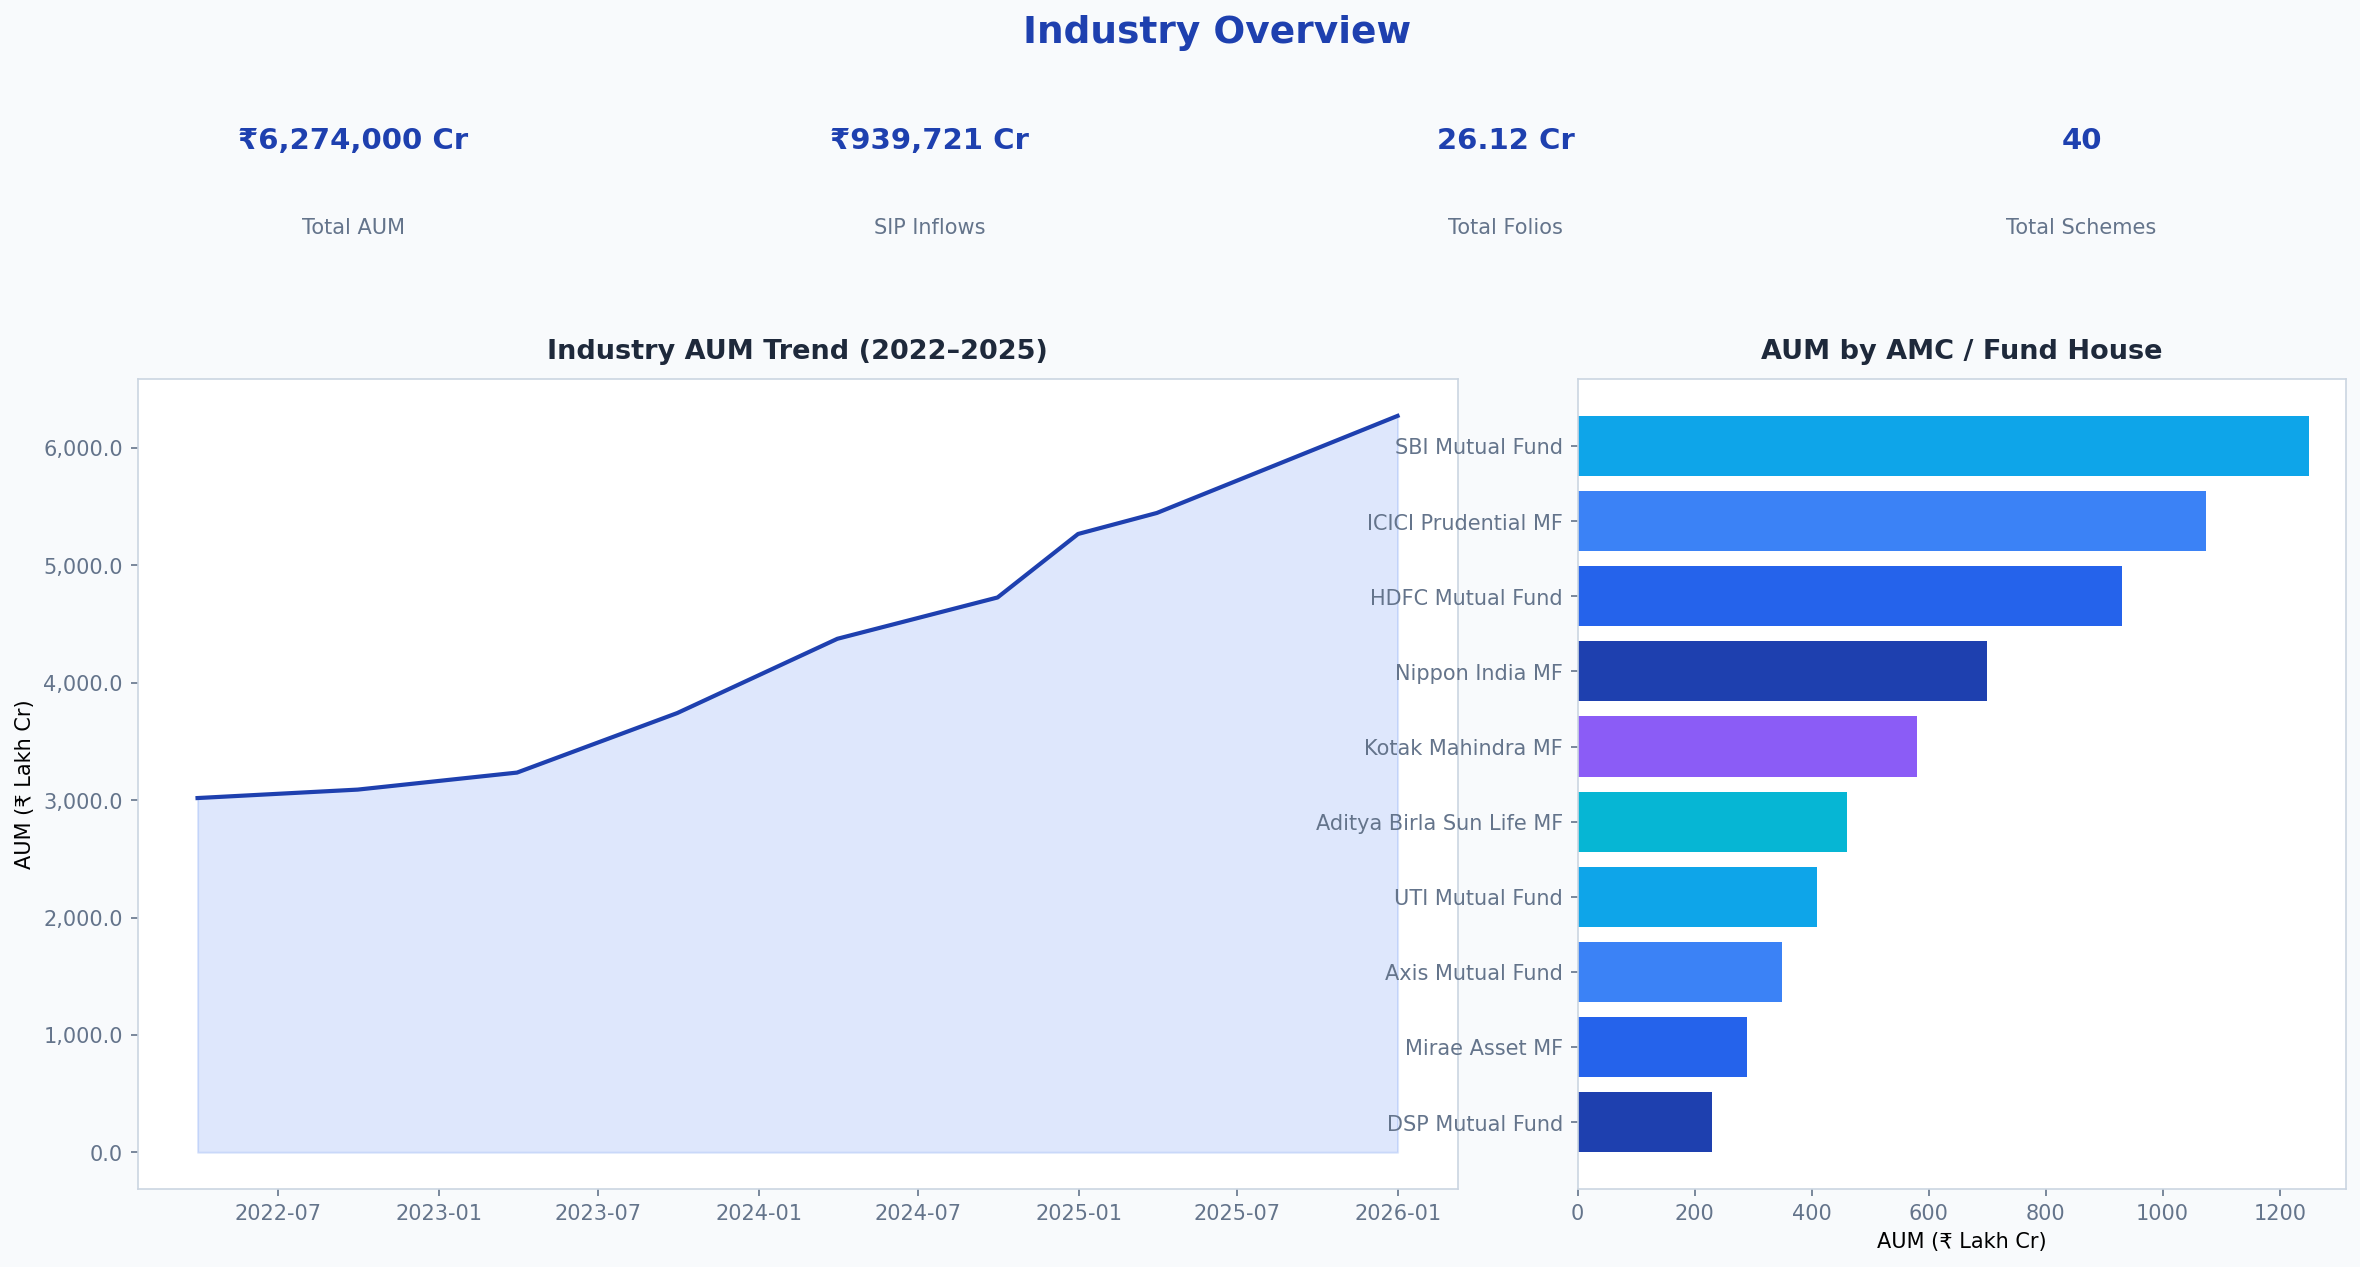

Layout of this report page (visuals, bound fields, positions):
{"tool":"powerbi","page":{"name":"Industry Overview","canvas":[1280,720],"ordinal":0},"visuals":[{"type":"image","box":[1100,0,160,50]},{"type":"card","fields":{"Values":["kpi_snapshot.Total AUM"]},"box":[20,20,280,110]},{"type":"card","fields":{"Values":["kpi_snapshot.SIP Inflows"]},"box":[320,20,280,110]},{"type":"card","fields":{"Values":["kpi_snapshot.Total Folios"]},"box":[620,20,280,110]},{"type":"card","fields":{"Values":["kpi_snapshot.Total Schemes"]},"box":[920,20,280,110]},{"type":"lineChart","fields":{"Category":["industry_aum_trend.date"],"Y":["industry_aum_trend.Industry AUM"]},"box":[20,150,780,380]},{"type":"clusteredBarChart","fields":{"Category":["aum_latest.fund_house"],"Y":["aum_latest.AUM by AMC"]},"box":[820,150,400,380]}]}

Visuals, with their boxes on the page's 1280x720 design canvas (x1, y1, x2, y2). These are canvas units, not pixel positions in the 2360x1267 screenshot, which may show the page scaled, cropped or inside an application window:
image: box(1100, 0, 1260, 50)
card - kpi_snapshot.Total AUM: box(20, 20, 300, 130)
card - kpi_snapshot.SIP Inflows: box(320, 20, 600, 130)
card - kpi_snapshot.Total Folios: box(620, 20, 900, 130)
card - kpi_snapshot.Total Schemes: box(920, 20, 1200, 130)
lineChart - industry_aum_trend.date x industry_aum_trend.Industry AUM: box(20, 150, 800, 530)
clusteredBarChart - aum_latest.fund_house x aum_latest.AUM by AMC: box(820, 150, 1220, 530)
